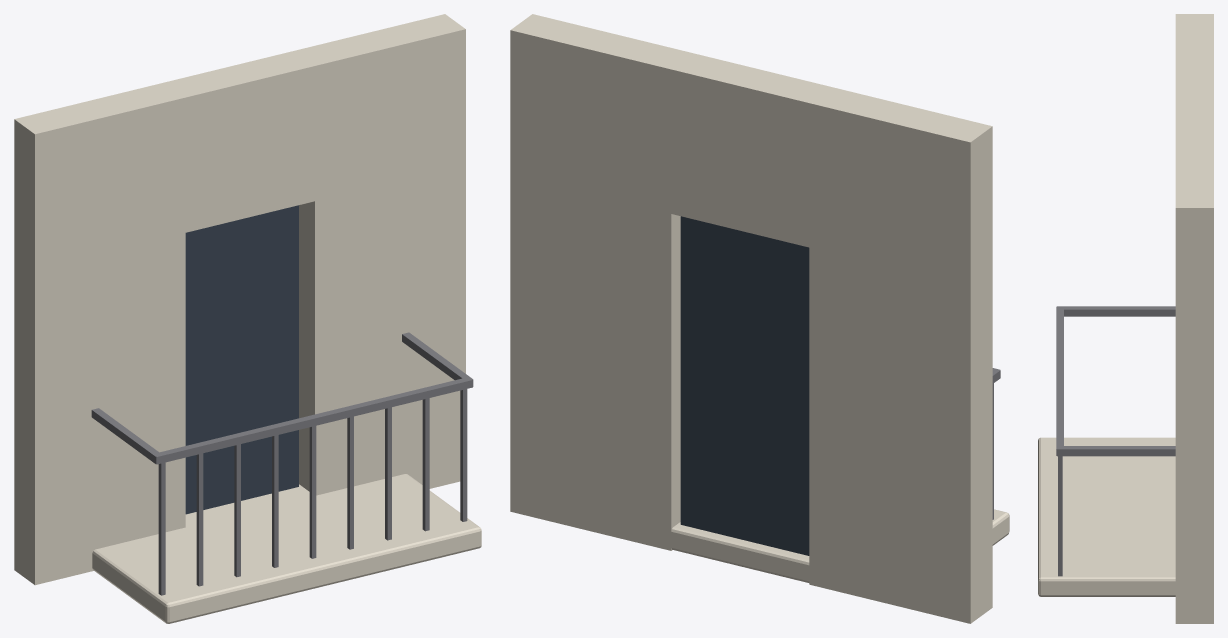
File: kit_balcony.glb
3 views of the same model, side by side, from view 1: azimuth 30°, elevation 25°; view 2: azimuth 150°, elevation 25°; view 3: azimuth 270°, elevation 25° (orthographic). The views are drawn at different scales.
Visible parts, largest first — view 1: kit_balcony; view 2: kit_balcony; view 3: kit_balcony.
Boxes of the visible parts, left/top/right/bottom form: kit_balcony: left=14, top=14, right=481, bottom=623; kit_balcony: left=510, top=14, right=1009, bottom=623; kit_balcony: left=1038, top=14, right=1213, bottom=623.
Bounding box in the file's own units: 3 × 3 × 1.15.
